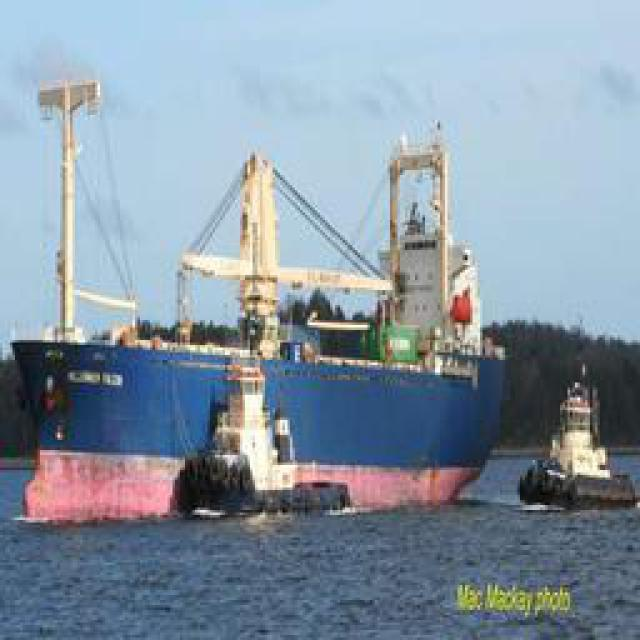Ship: (20, 130, 504, 534), (157, 380, 356, 521), (521, 385, 638, 520)
